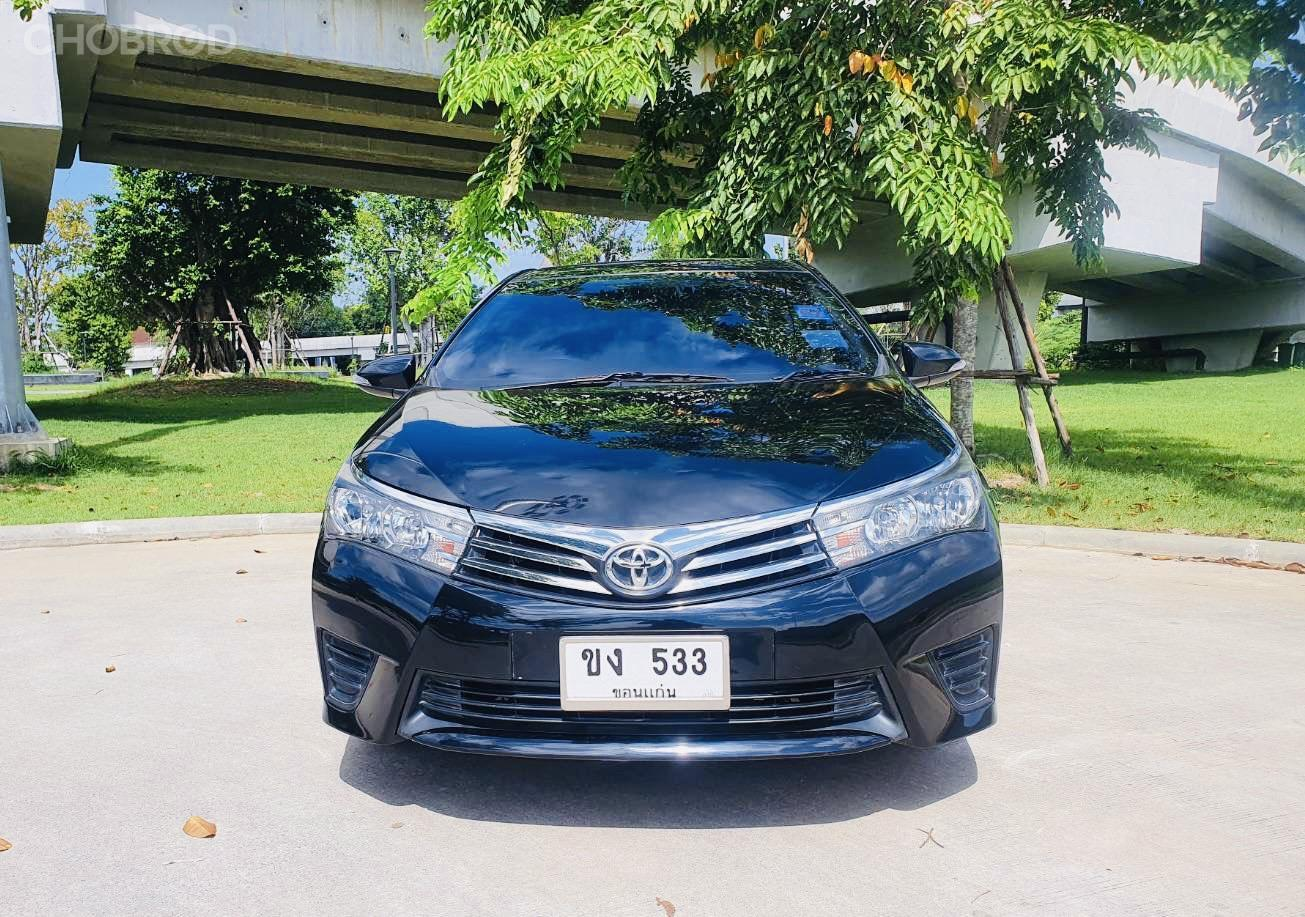license-plate: (555, 629, 736, 716)
